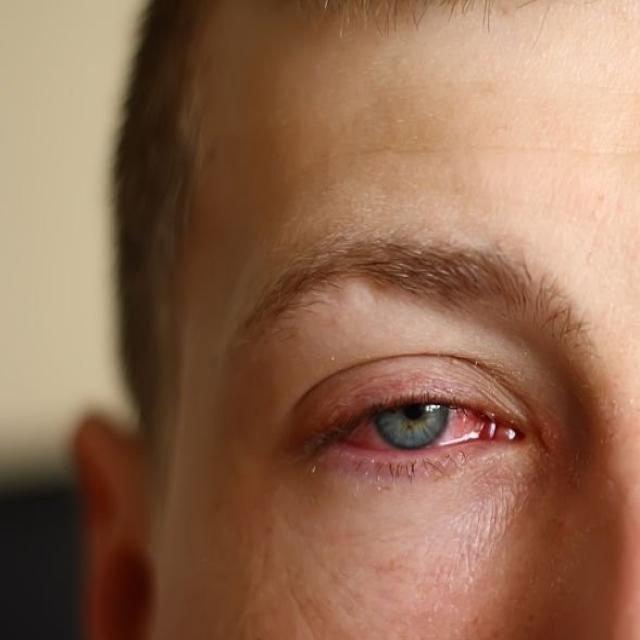Conjunctivitis: (338, 396, 516, 454)
